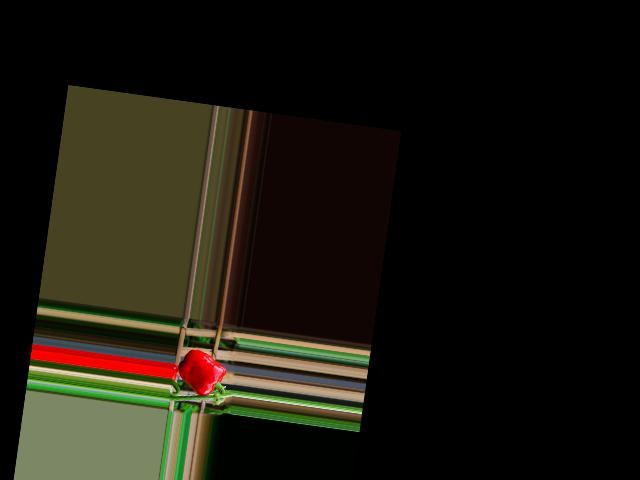bell_pepper: (175, 344, 229, 401)
